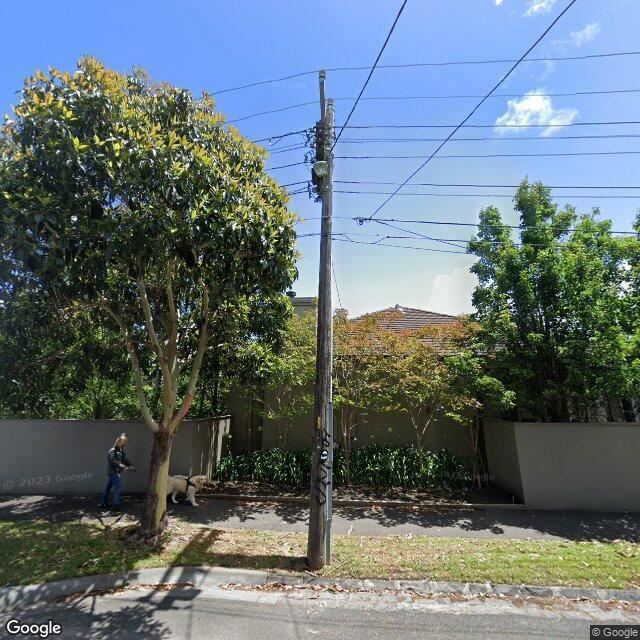HV-transmission: (319, 70, 335, 124)
crossarm: (302, 123, 326, 203), (320, 80, 325, 121)
timber-pole: (306, 108, 336, 568)
